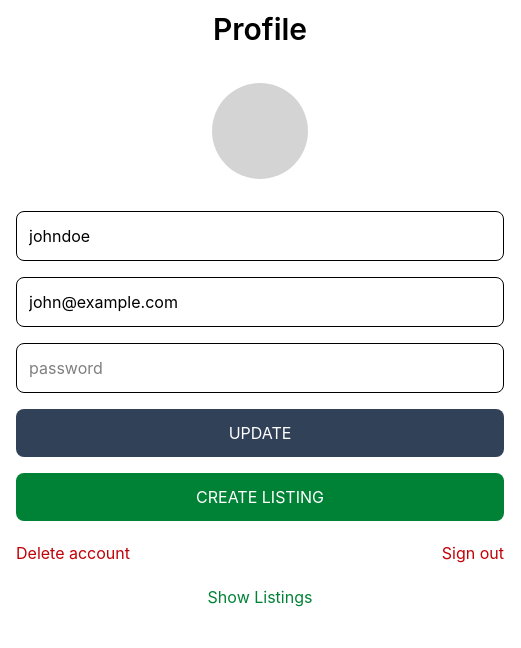
Scenario: Profile — update › shows 'User is updated successfully!' after a successful update
Click the button "Update": x=260, y=433 left=16, top=409, right=504, bottom=457
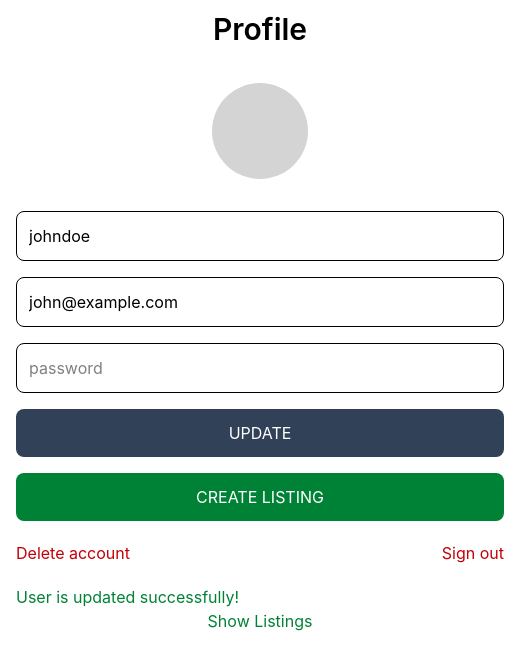
Expected: the text "User is updated successfully!" is shown, left=16, top=587, right=239, bottom=607
